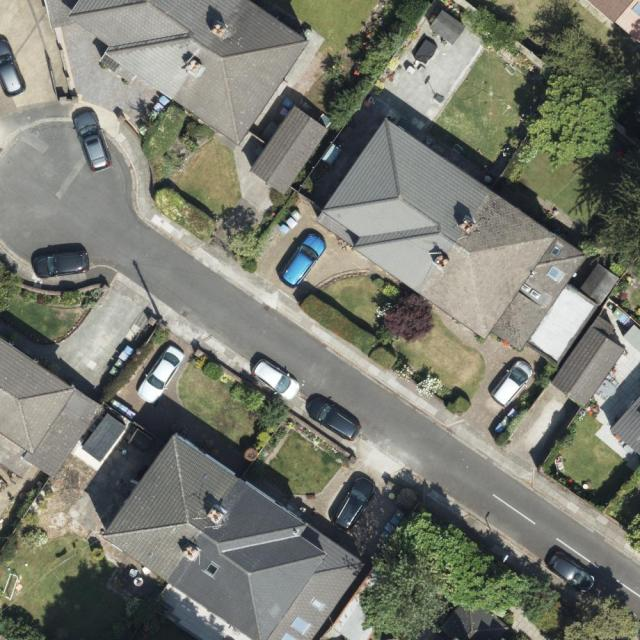roof: (316, 119, 626, 410), (101, 431, 365, 640), (42, 0, 312, 146), (0, 337, 103, 483), (248, 106, 327, 195)
skylight: (288, 612, 312, 638), (519, 281, 545, 302), (204, 558, 225, 580), (547, 238, 566, 258), (550, 263, 566, 286), (307, 591, 324, 612), (280, 629, 305, 640)
